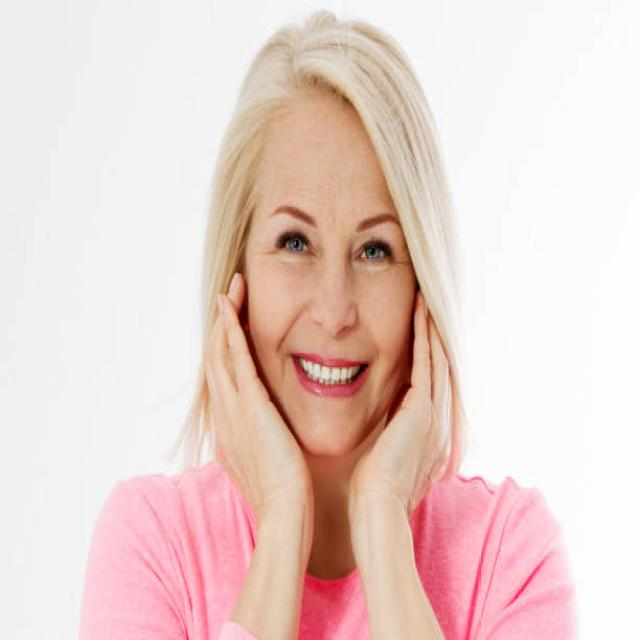Dry-Skin: (289, 127, 372, 210)
